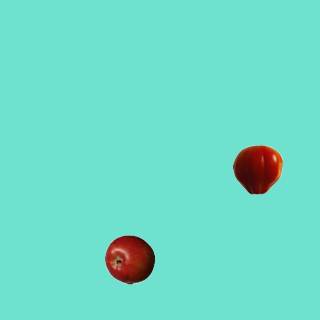Apple Braeburn: (104, 234, 154, 284)
Tomato 1: (232, 144, 282, 194)
